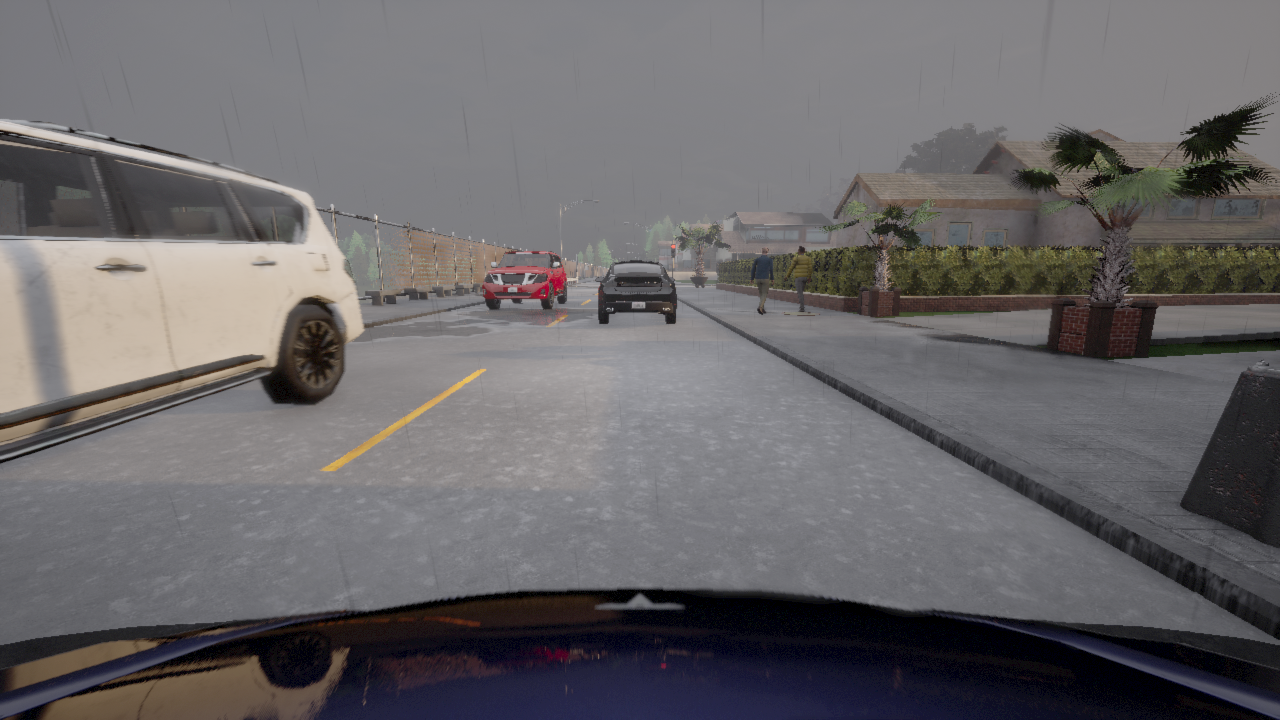cyclist: (0, 588, 1279, 719), (595, 260, 676, 323), (482, 250, 567, 309)
pedestrian: (784, 245, 812, 311), (750, 247, 773, 314)
